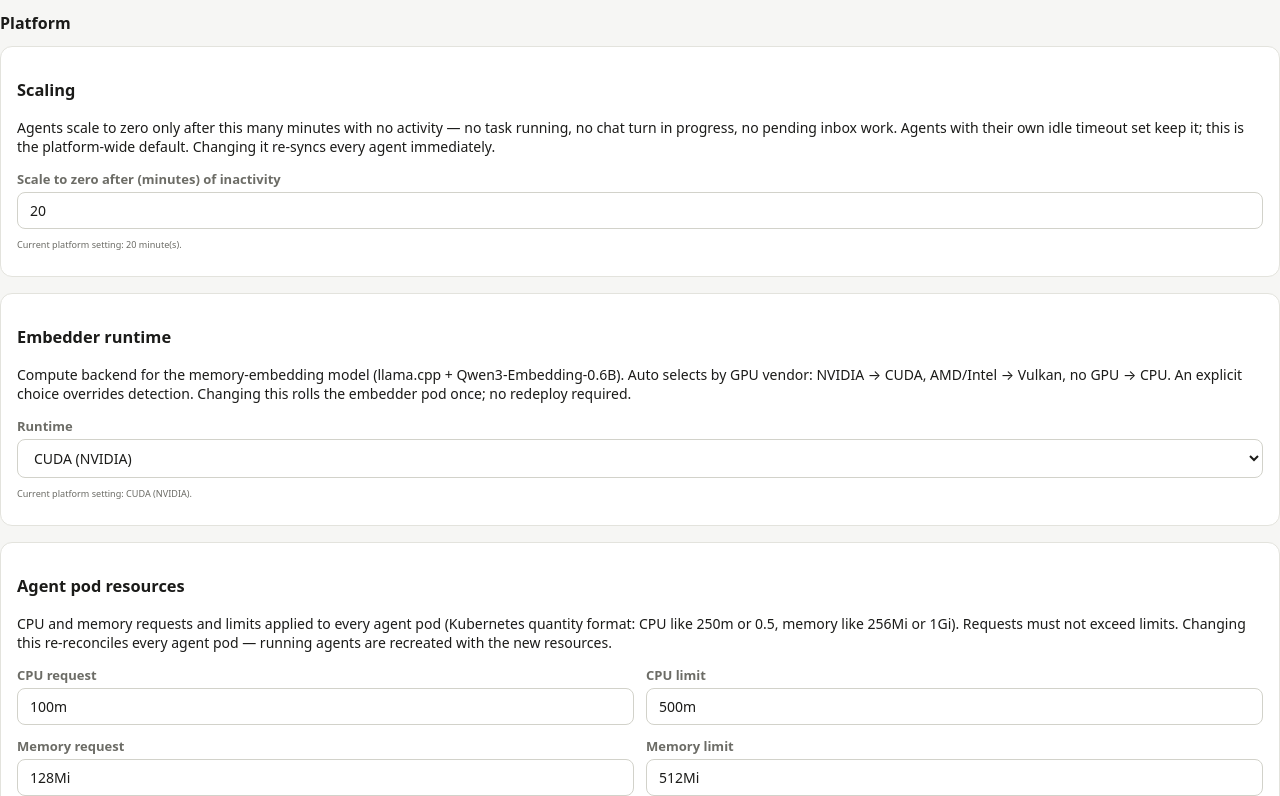
Test case: PlatformSettingsTab save › out-of-range minutes blocks submit with the validation error
The width and height of the screenshot is (1280, 796).
Check: the text "Current platform setting: 20 minute(s)." is shown, box [17,238,182,251]
// Make the form dirty via runtime so Save is enabled while minutes are invalid.
Select "CPU only" in the dropdown named "Embedder compute runtime" at (640, 458), box [17,439,1263,478]
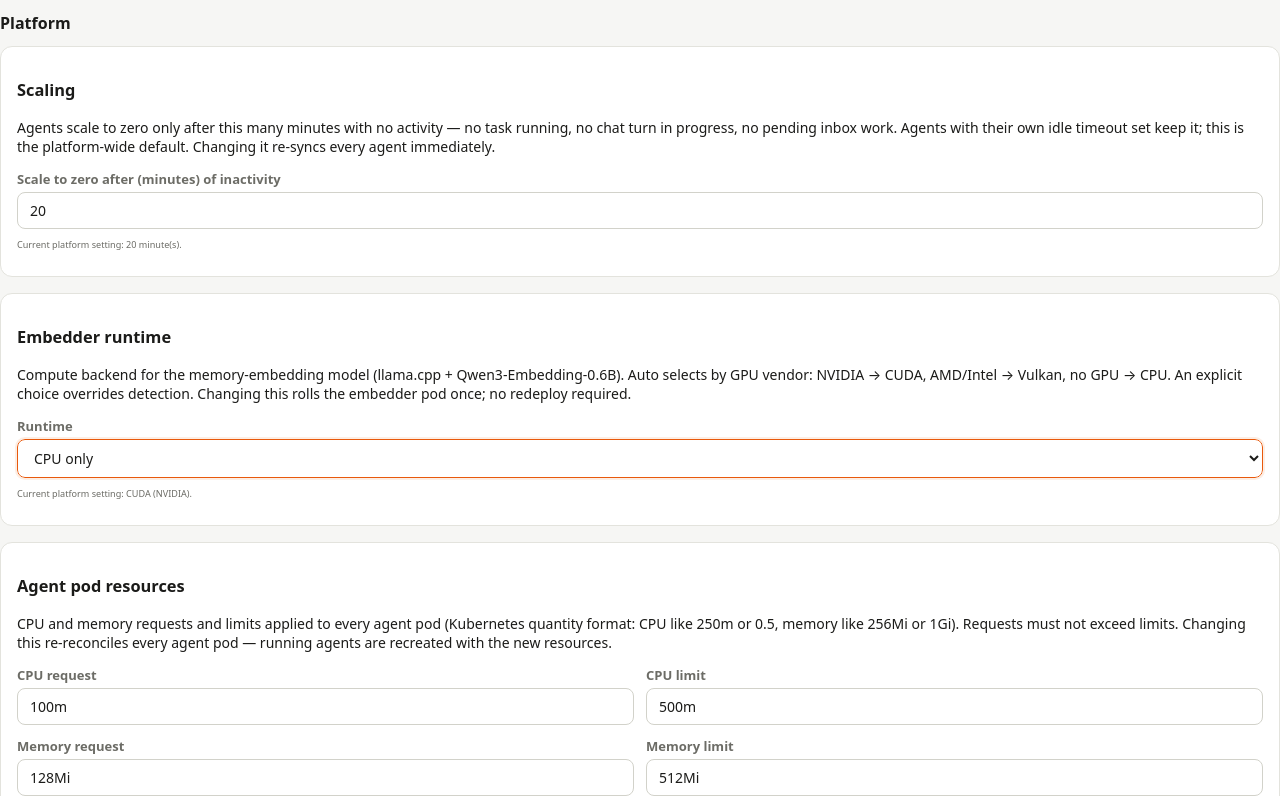
Replace the text in the field named "Scale to zero after minutes of inactivity" with "999" at (640, 210), box [17,192,1263,229]
(page scrolled)
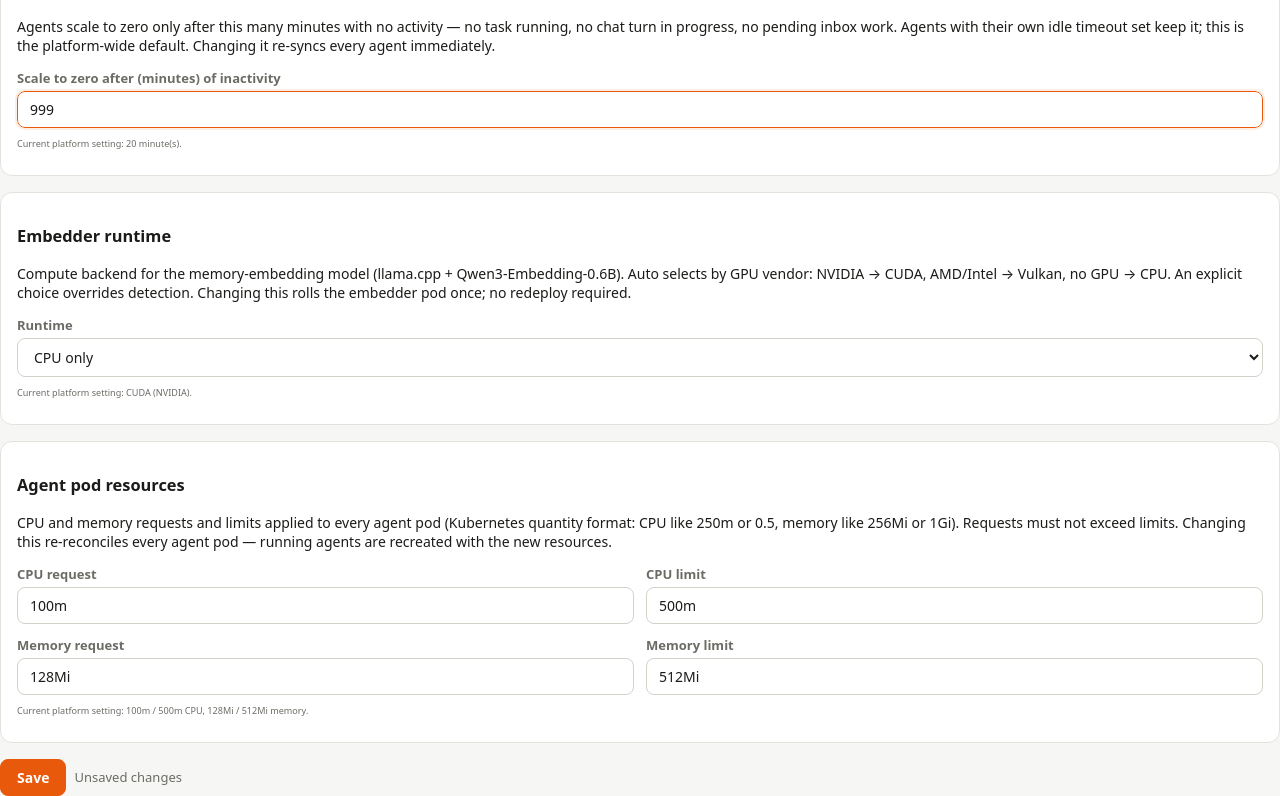
Click the button "Save" at (33, 777), box [0,759,66,795]
(page scrolled)
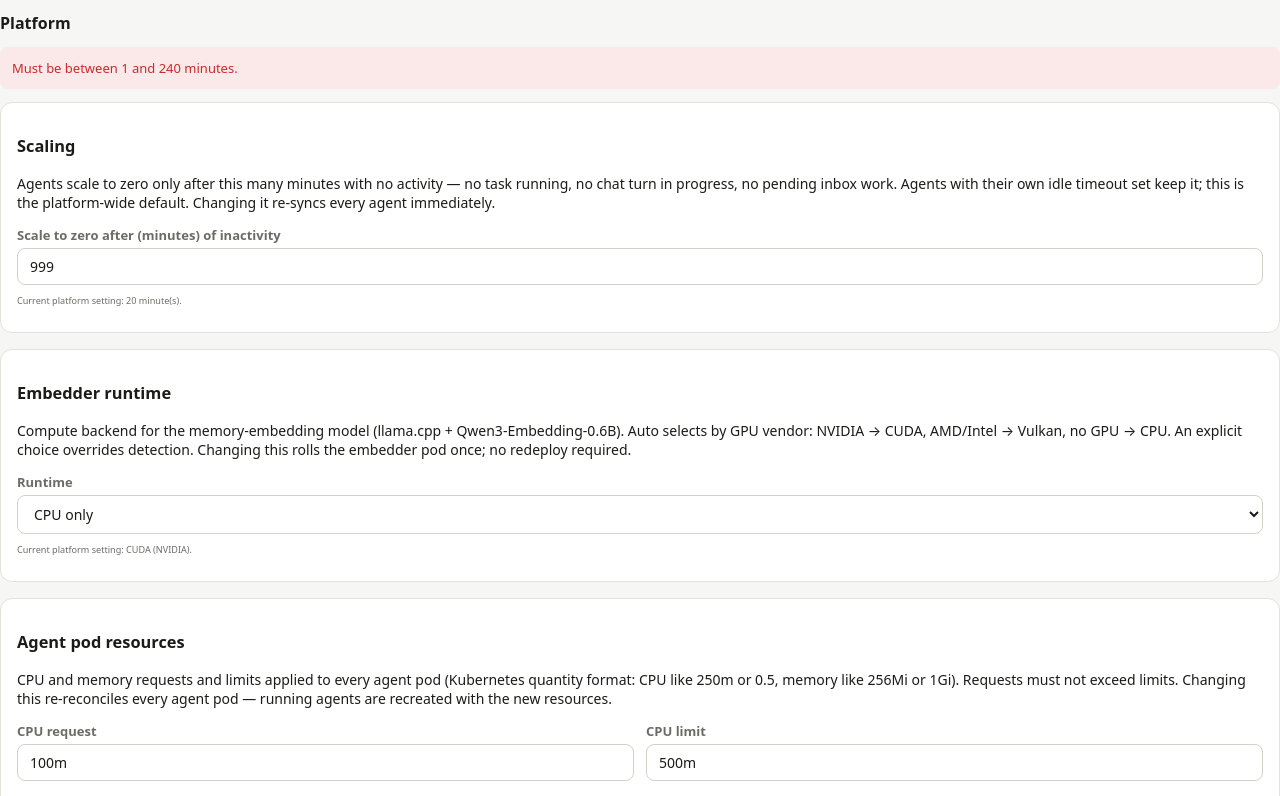
Check: the message reads "Must be between 1 and 240 minutes.", box [12,59,238,77]
